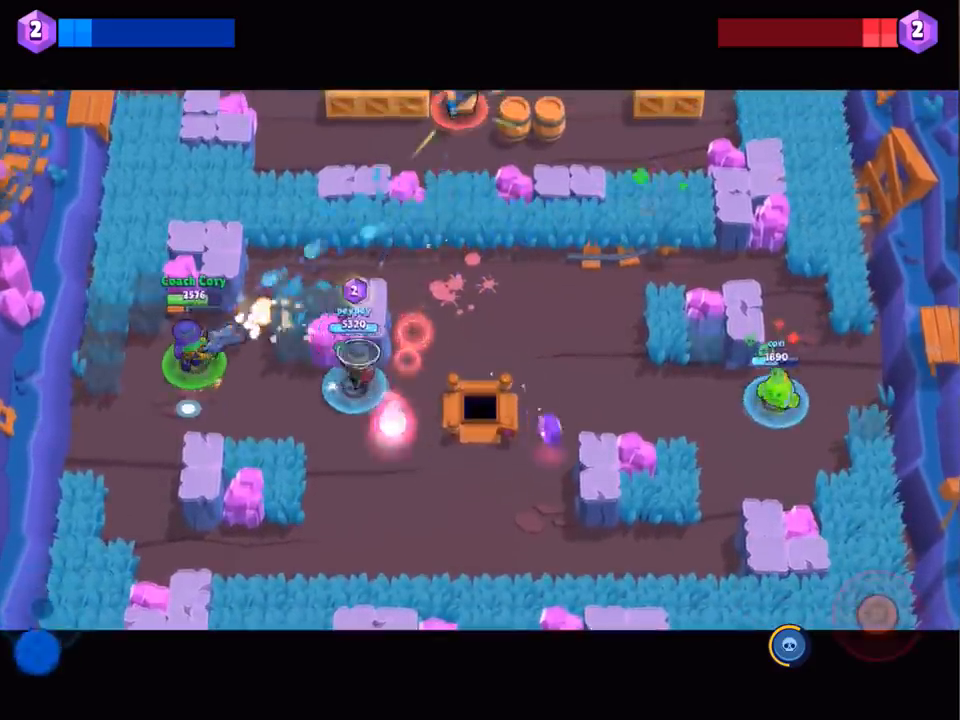move_stick: (13, 627, 60, 678)
red: (420, 71, 502, 134)
